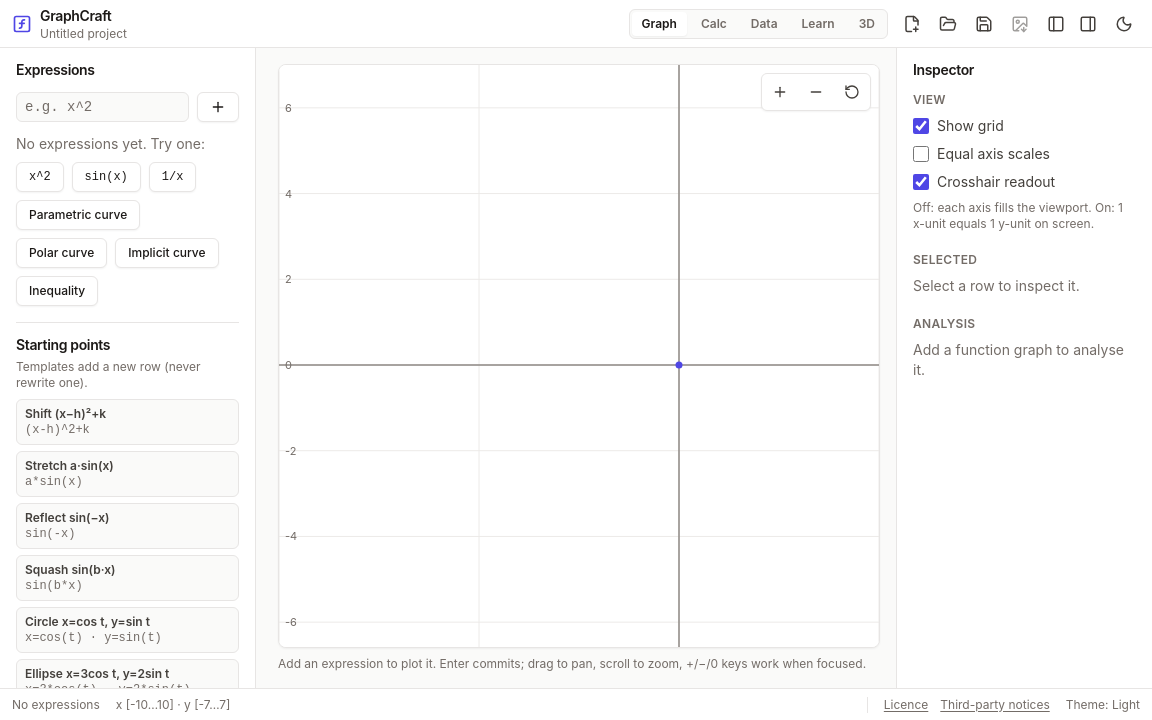
viewport interactions › pans content with the drag direction
Press the mouse on the picture "-10 -5 0 5 10 -6 -4 -2 0 2 4 6" at coordinates (679, 365), box [279,65,1079,665]
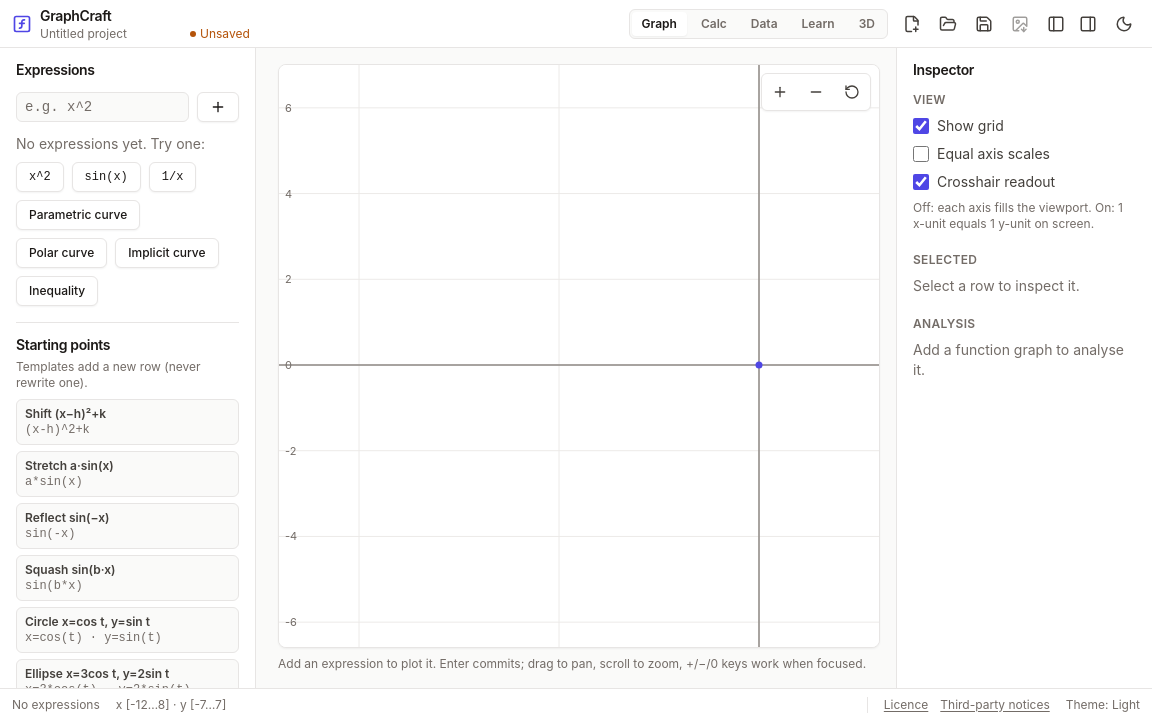
Expected: the text "x [-12…8] · y [-7…7]" is shown, [116,696,226,712]
